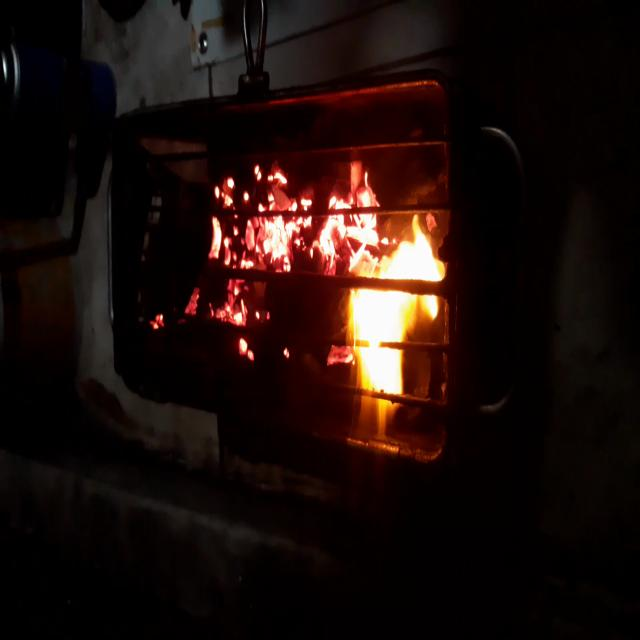Fire: (132, 149, 376, 384), (348, 218, 454, 465)
